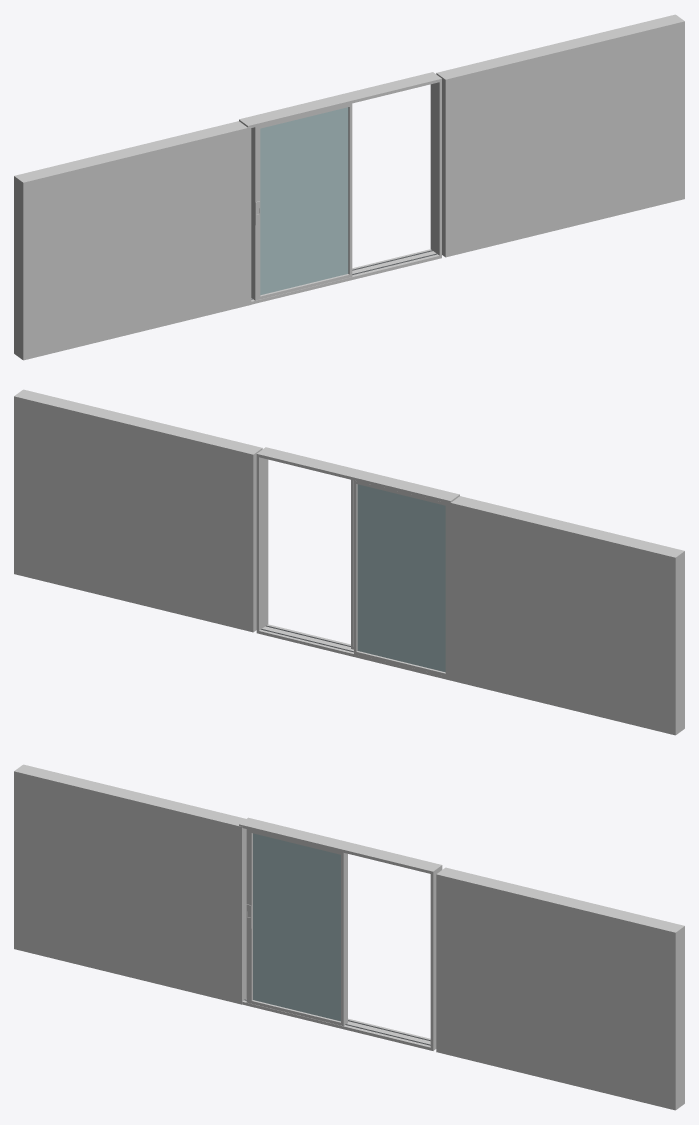
File: Stunning Kieran-Gogo.glb
The picture shows the model from 3 angles, top to bottom: view 1: azimuth 30°, elevation 25°; view 2: azimuth 150°, elevation 25°; view 3: azimuth 330°, elevation 25°; orthographic projection.
Visible parts, largest first — view 1: Mesh_Mesh_head_geo.001_lambert2SG.001; view 2: Mesh_Mesh_head_geo.001_lambert2SG.001; view 3: Mesh_Mesh_head_geo.001_lambert2SG.001.
Boxes of the visible parts, <box> form: Mesh_Mesh_head_geo.001_lambert2SG.001: <box>14,14,684,360</box>; Mesh_Mesh_head_geo.001_lambert2SG.001: <box>14,389,684,735</box>; Mesh_Mesh_head_geo.001_lambert2SG.001: <box>14,764,684,1110</box>.
Size of the model in its own units: 0.2045 by 0.053 by 0.005.
